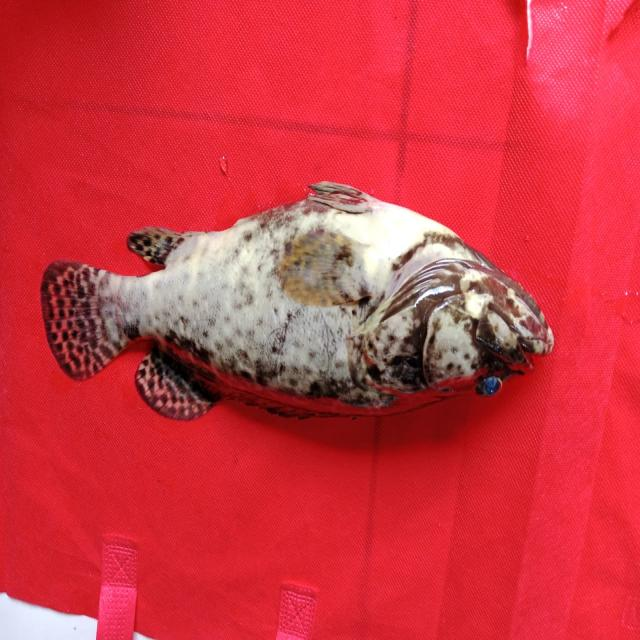ikan: (40, 160, 567, 456)
